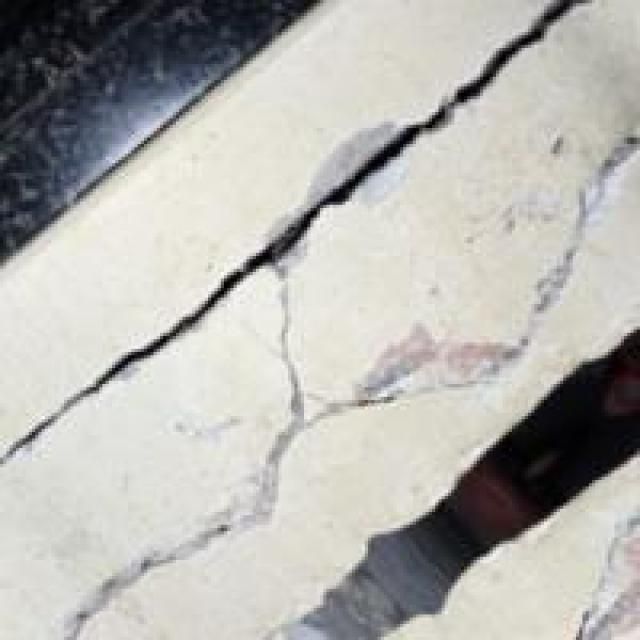crack: (64, 99, 595, 509)
